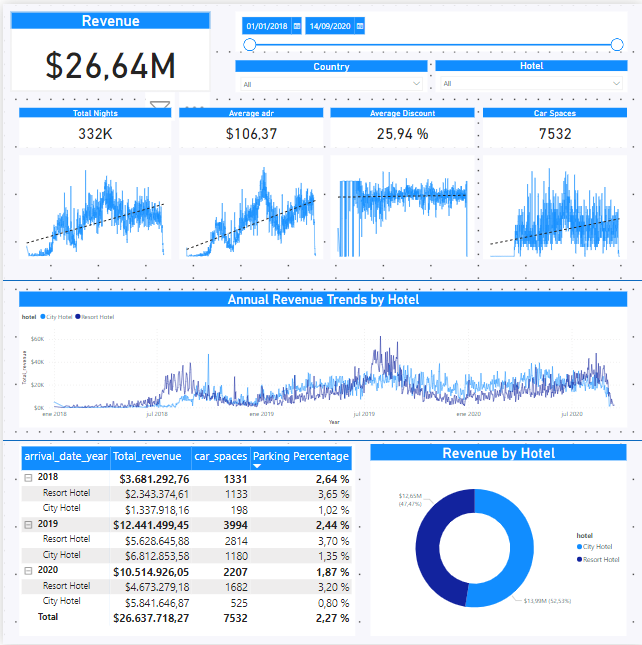

The dashboard page shown, as its layout file describes it:
{"tool":"powerbi","page":{"name":"Main_report","canvas":[1280,920],"ordinal":0},"visuals":[{"type":"shape","box":[0,271.4,1280,12.9],"z":0},{"type":"shape","box":[0,580,1280,12.9],"z":1000},{"type":"card","title":"Revenue ","fields":{"Values":["Query1.Total_revenue"]},"box":[17.1,95.7,277.1,127.1],"z":2000},{"type":"card","title":"Average adr","fields":{"Values":["Query1.Avg_adr"]},"box":[335.7,95.7,202.9,72.9],"z":3000},{"type":"card","title":"Total Nights ","fields":{"Values":["Query1.Total_nights"]},"box":[575.7,95.7,190,72.9],"z":4000},{"type":"card","title":"Average Discount","fields":{"Values":["Query1.Avg_discount"]},"box":[795.7,95.7,198.6,72.9],"z":5000},{"type":"lineChart","title":"Annual Revenue Trends by Hotel","fields":{"Category":["Query1.reservation_status_date.Variation.Date Hierarchy.Year","Query1.reservation_status_date.Variation.Date Hierarchy.Quarter","Query1.reservation_status_date.Variation.Date Hierarchy.Month","Query1.reservation_status_date.Variation.Date Hierarchy.Day"],"Series":["Query1.hotel"],"Y":["Query1.Total_revenue"]},"box":[101.4,300,1087.1,261.4],"z":6000},{"type":"slicer","title":"Country","fields":{"Values":["Query1.country"]},"box":[587.1,10,244.3,64.3],"z":7000},{"type":"slicer","title":"Hotel","fields":{"Values":["Query1.hotel"]},"box":[860,10,244.3,65.7],"z":8000},{"type":"lineChart","fields":{"Y":["Query1.Total_adr"],"Category":["Query1.reservation_status_date"]},"box":[338.6,168.6,198.6,67.1],"z":9000},{"type":"lineChart","fields":{"Y":["Query1.Total_nights"],"Category":["Query1.reservation_status_date"]},"box":[572.9,168.6,198.6,67.1],"z":10000},{"type":"lineChart","fields":{"Category":["Query1.reservation_status_date"],"Y":["Query1.Avg_discount"]},"box":[795.7,168.6,198.6,67.1],"z":11000},{"type":"lineChart","fields":{"Y":["Query1.car_spaces"],"Category":["Query1.reservation_status_date"]},"box":[1022.9,168.6,212.9,67.1],"z":12000},{"type":"card","title":"Car Spaces","fields":{"Values":["Query1.car_spaces"]},"box":[1022.9,95.7,198.6,72.9],"z":13000},{"type":"donutChart","title":"Revenue by Hotel","fields":{"Y":["Query1.Total_revenue"],"Category":["Query1.hotel"]},"box":[690,592.9,531.4,304.3],"z":14000},{"type":"pivotTable","fields":{"Rows":["Query1.arrival_date_year","Query1.hotel"],"Values":["Query1.Total_revenue","Query1.car_spaces","Query1.Parking Percentage"]},"box":[50,617.1,452.9,280],"z":15000},{"type":"slicer","fields":{"Values":["Query1.reservation_status_date"]},"box":[50,0,487.1,82.9],"z":16000}]}

Visuals, with their boxes on the page's 1280x920 design canvas (x1, y1, x2, y2). These are canvas units, not pixel positions in the 642x645 screenshot, which may show the page scaled, cropped or inside an application window:
shape: bbox=(0, 271, 1280, 284)
shape: bbox=(0, 580, 1280, 593)
"Revenue " card: bbox=(17, 96, 294, 223)
"Average adr" card: bbox=(336, 96, 539, 169)
"Total Nights " card: bbox=(576, 96, 766, 169)
"Average Discount" card: bbox=(796, 96, 994, 169)
"Annual Revenue Trends by Hotel" lineChart: bbox=(101, 300, 1188, 561)
"Country" slicer: bbox=(587, 10, 831, 74)
"Hotel" slicer: bbox=(860, 10, 1104, 76)
lineChart - Query1.Total_adr x Query1.reservation_status_date: bbox=(339, 169, 537, 236)
lineChart - Query1.Total_nights x Query1.reservation_status_date: bbox=(573, 169, 772, 236)
lineChart - Query1.reservation_status_date x Query1.Avg_discount: bbox=(796, 169, 994, 236)
lineChart - Query1.car_spaces x Query1.reservation_status_date: bbox=(1023, 169, 1236, 236)
"Car Spaces" card: bbox=(1023, 96, 1222, 169)
"Revenue by Hotel" donutChart: bbox=(690, 593, 1221, 897)
pivotTable - Query1.arrival_date_year x Query1.hotel: bbox=(50, 617, 503, 897)
slicer - Query1.reservation_status_date: bbox=(50, 0, 537, 83)
